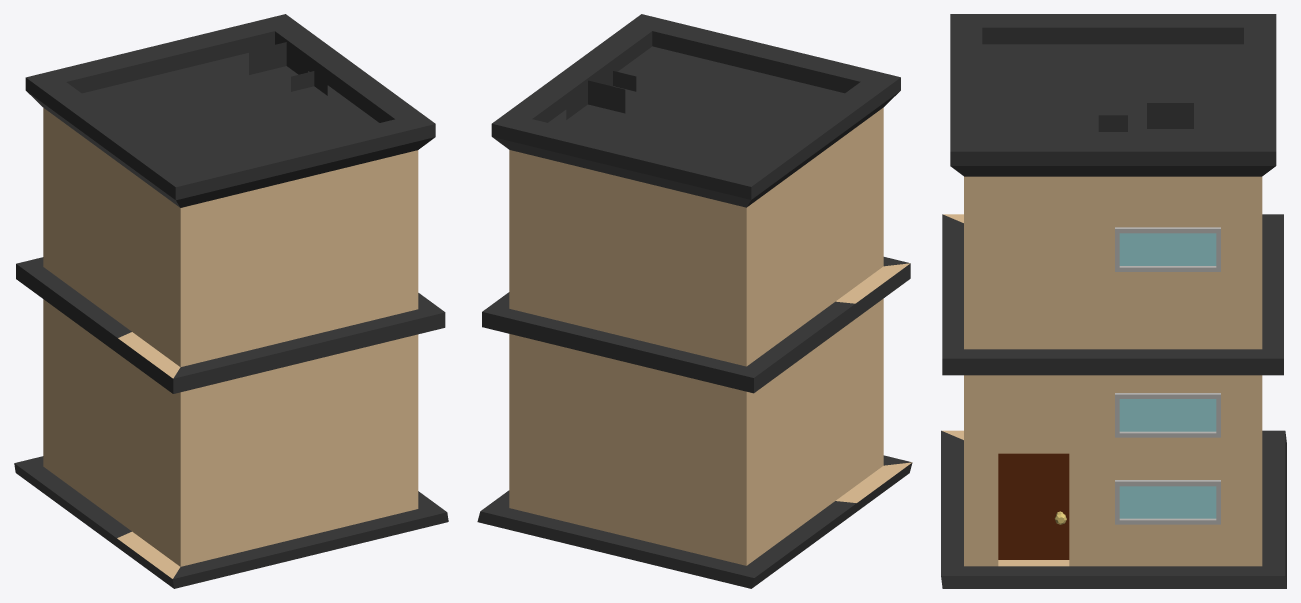
The model's file is Building 1.fbx.
3 views of the same model, side by side, from view 1: azimuth 30°, elevation 25°; view 2: azimuth 150°, elevation 25°; view 3: azimuth 270°, elevation 25° (orthographic). The views are drawn at different scales.
Parts seen in each view (by area): view 1: Cube; view 2: Cube; view 3: Cube.
Boxes of the visible parts, left/top/right/bottom form: Cube: left=14, top=14, right=448, bottom=588; Cube: left=477, top=14, right=912, bottom=588; Cube: left=941, top=14, right=1286, bottom=588.
Bounding box in the file's own units: 698 × 980 × 695.
